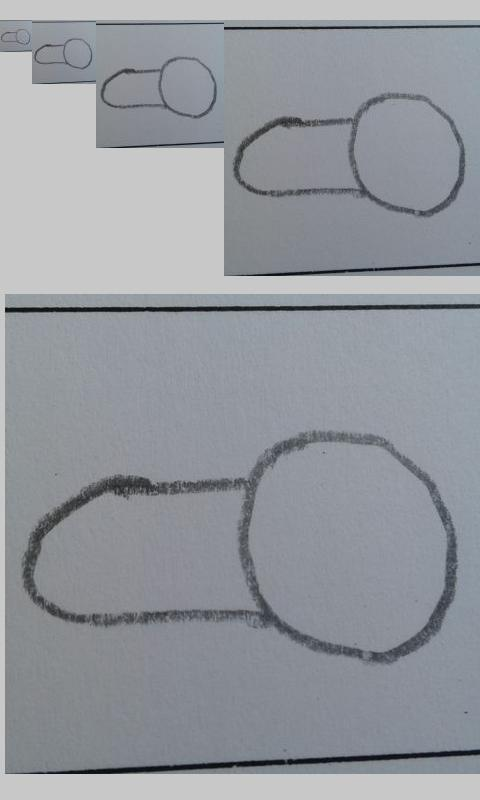switch: (23, 429, 459, 662), (232, 91, 466, 218), (100, 56, 217, 120), (34, 37, 93, 70), (1, 28, 30, 45)
